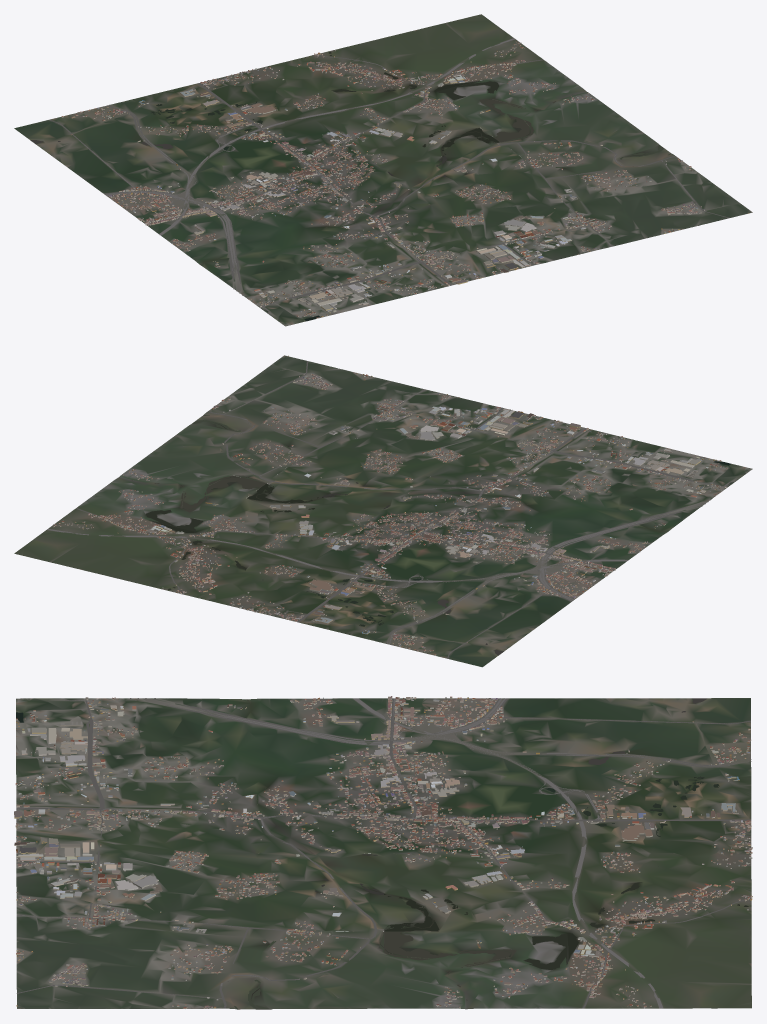
The picture shows the model from 3 angles, top to bottom: view 1: azimuth 30°, elevation 25°; view 2: azimuth 150°, elevation 25°; view 3: azimuth 270°, elevation 25°; orthographic projection. The views are drawn at different scales.
Visible parts, largest first — view 1: ground, buildings, roads, water; view 2: ground, buildings, roads, water; view 3: ground, buildings, roads, water.
Part boxes in pixels (x1,y1,x2,y2): ground: (14, 14, 752, 326); buildings: (61, 41, 749, 318); roads: (49, 38, 729, 313); water: (30, 52, 671, 321); ground: (14, 355, 752, 667); buildings: (53, 355, 727, 655); roads: (47, 361, 734, 658); water: (132, 415, 731, 655); ground: (16, 698, 751, 1009); buildings: (14, 696, 752, 1008); roads: (16, 698, 751, 1008); water: (16, 698, 748, 1009).
Size of the model in its own units: 5610 by 40.26 by 5638.
